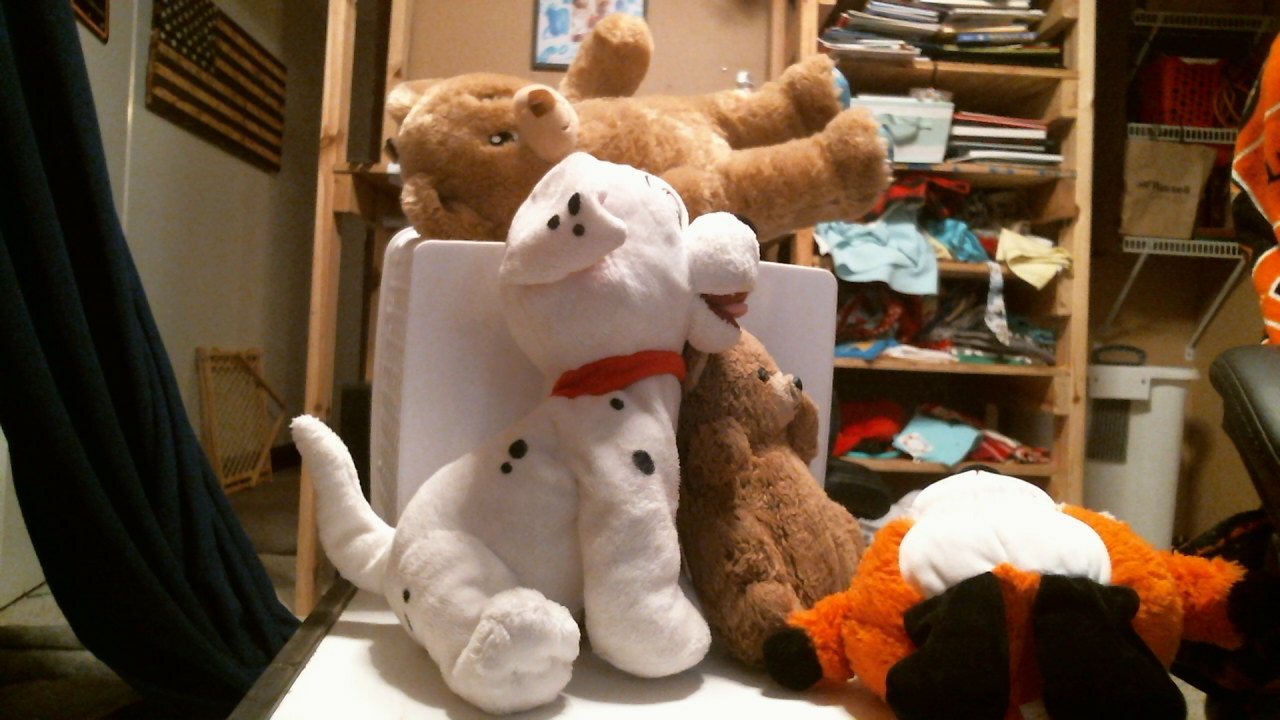Little_Mister_Bear: (721, 368, 817, 439)
